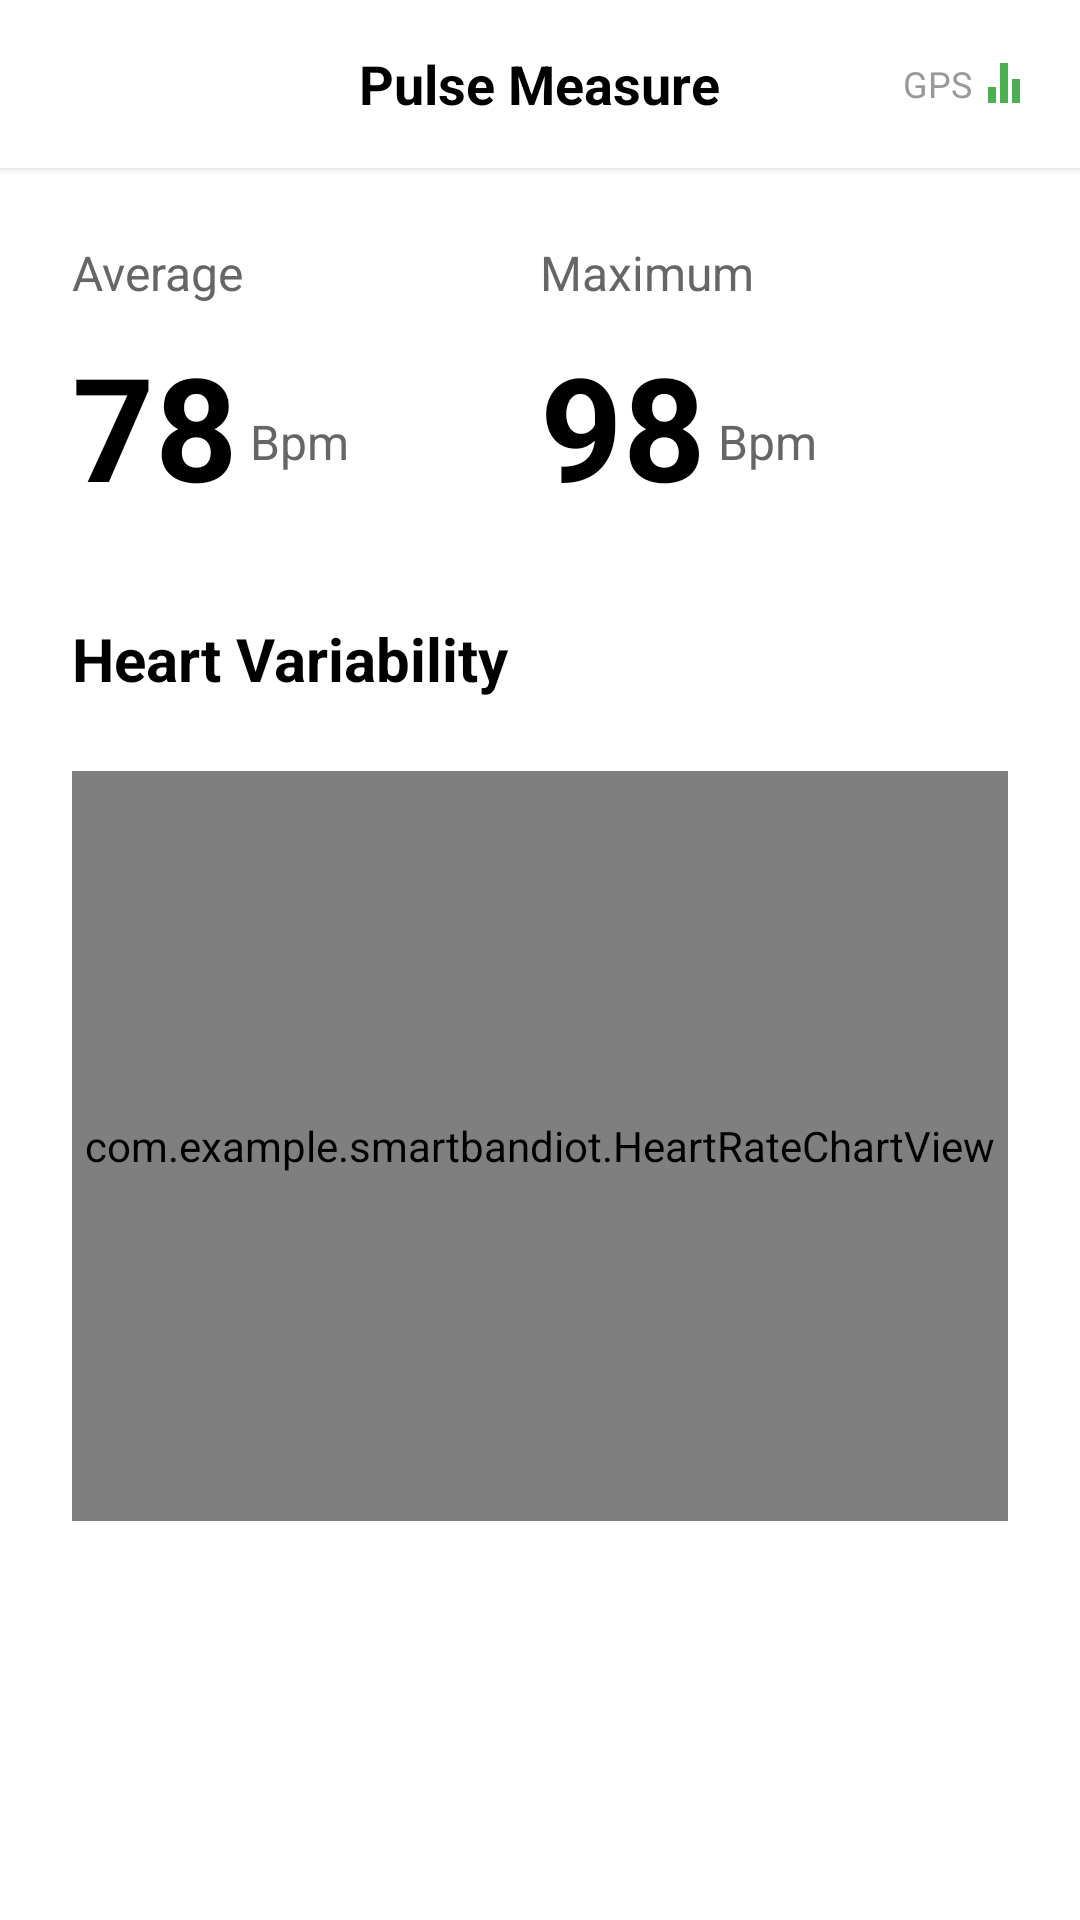

Screen size 1080w x 1920h. Icon name, then its center in pixels as point (x, y):
Signal: point (1004, 83)
